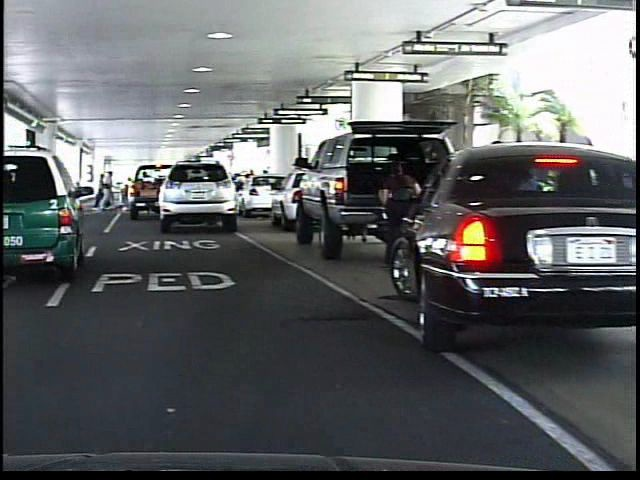person: (372, 153, 424, 265)
